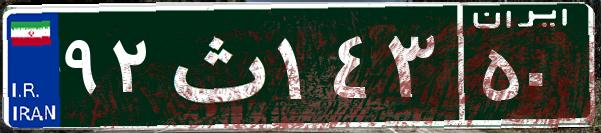0: (525, 38, 570, 115)
1: (273, 28, 330, 110)
2: (110, 28, 158, 105)
3: (385, 28, 445, 110)
4: (330, 28, 385, 110)
5: (475, 38, 525, 113)
9: (57, 26, 110, 107)
ث: (158, 15, 273, 115)
